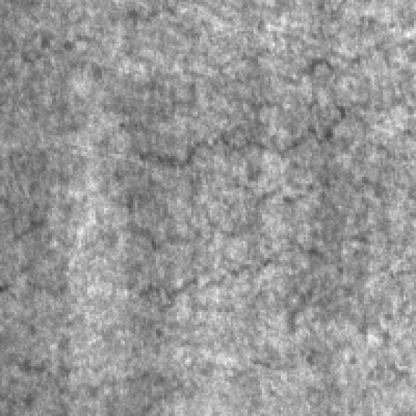crazing: (125, 183, 335, 306), (141, 52, 350, 164)
